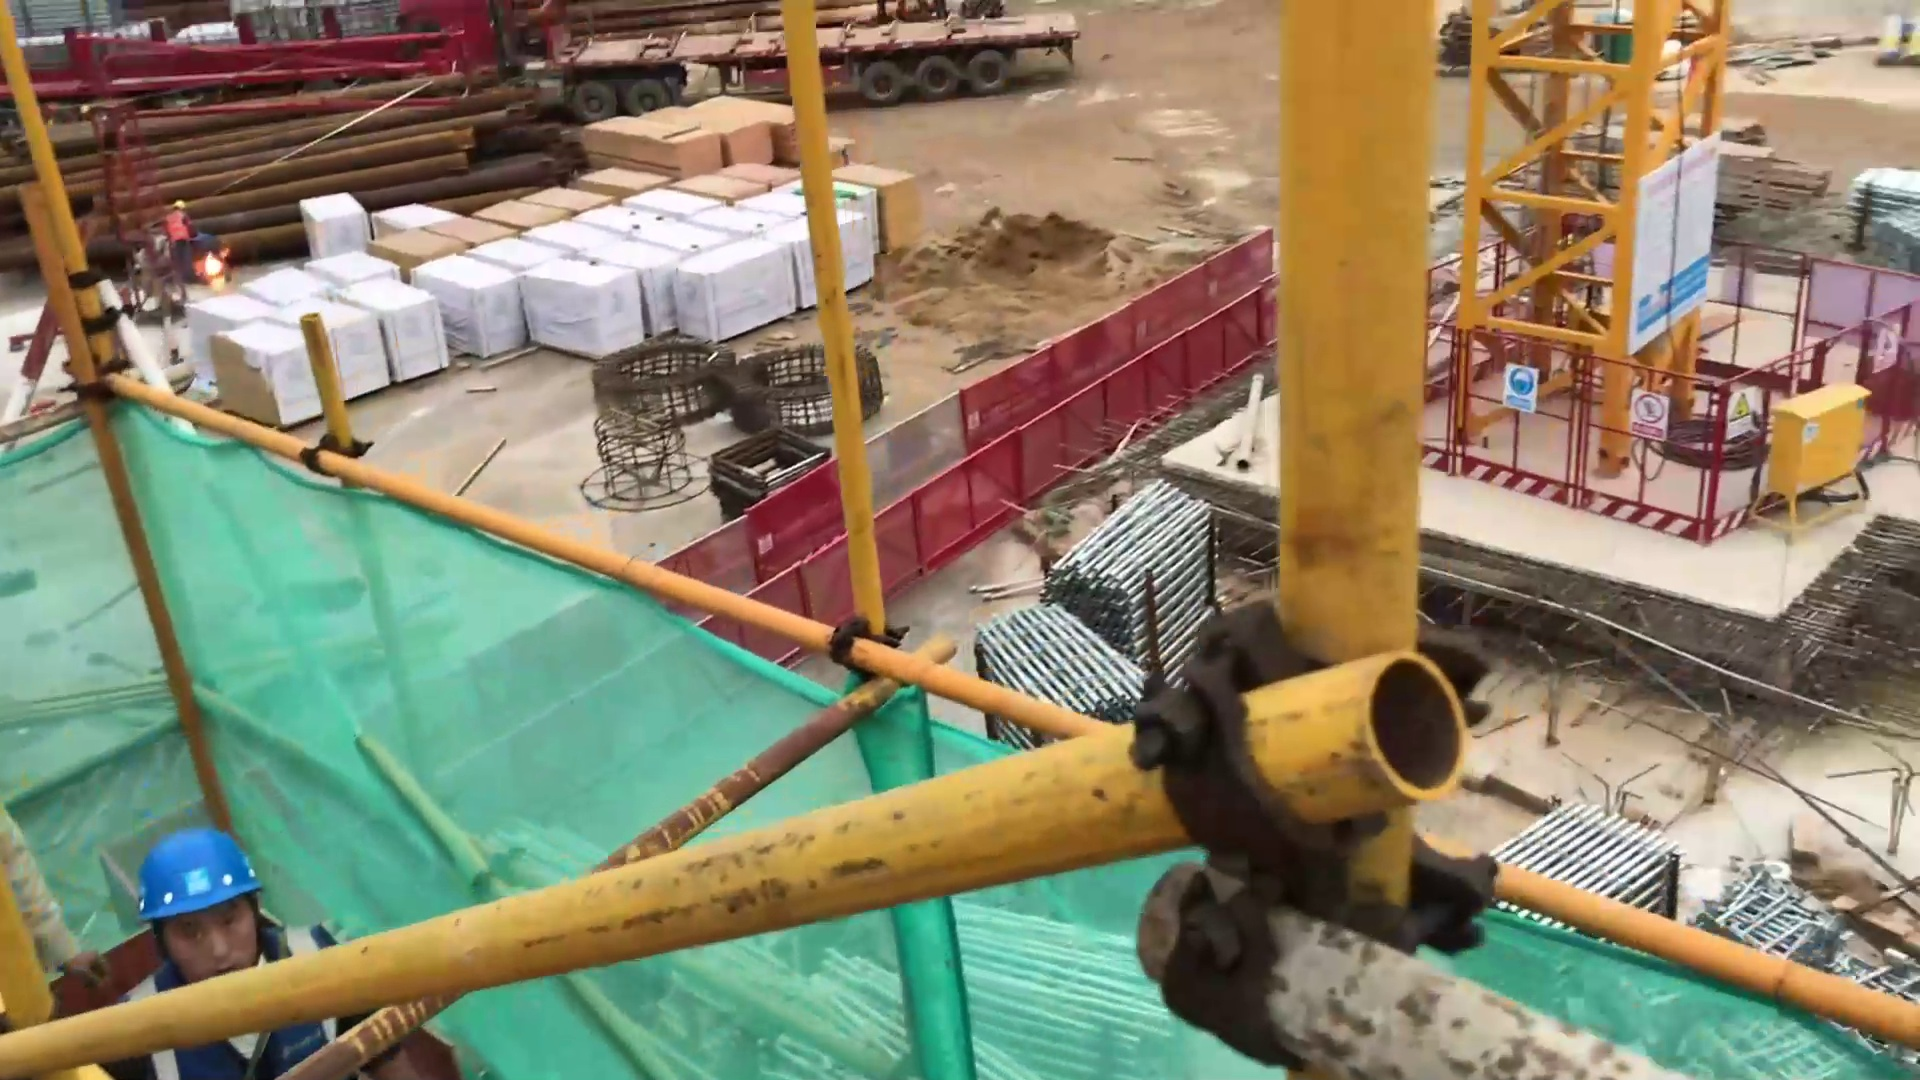ebox: (1767, 377, 1871, 542)
fence: (897, 404, 1106, 574)
helmet: (128, 833, 270, 929)
person: (103, 827, 422, 1080), (155, 194, 223, 286)
scaffold: (1037, 459, 1218, 679), (954, 904, 1174, 1075), (1492, 797, 1685, 922), (975, 601, 1132, 719)
slogan: (1625, 130, 1727, 364), (1625, 387, 1673, 444), (1502, 361, 1540, 415), (1725, 386, 1761, 444), (1875, 321, 1901, 376)
wood: (586, 108, 728, 186), (1725, 109, 1806, 230)
